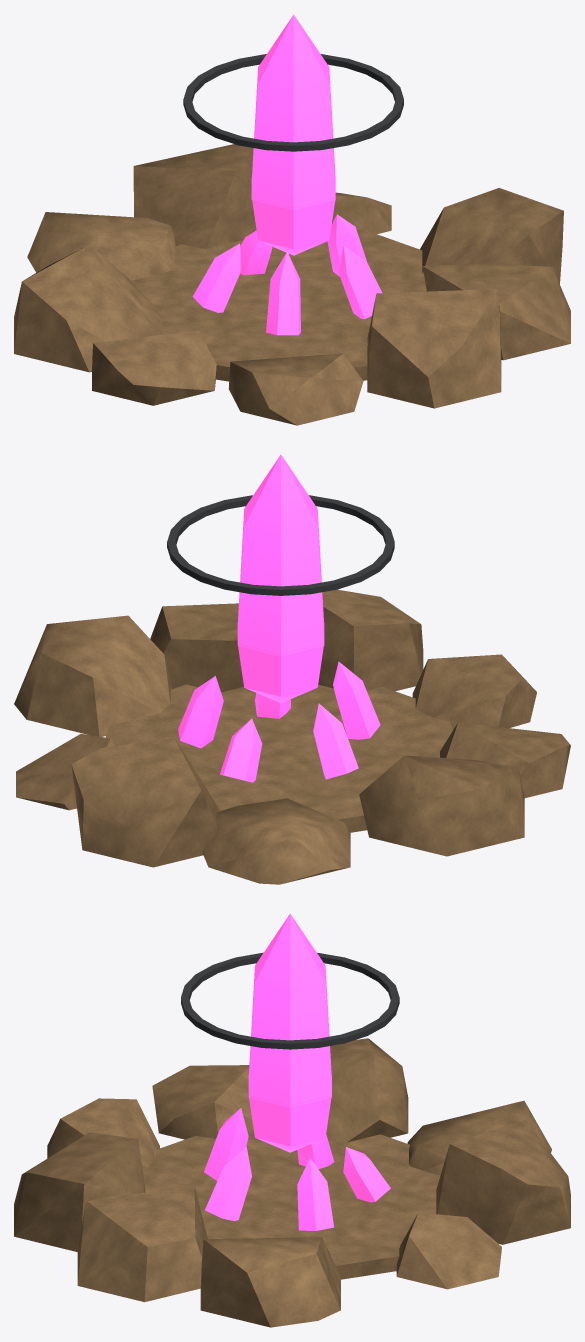
Rendered from recurso_nucleo.glb.
The picture shows the model from 3 angles, top to bottom: view 1: azimuth 30°, elevation 25°; view 2: azimuth 150°, elevation 25°; view 3: azimuth 270°, elevation 25°; orthographic projection. The views are drawn at different scales.
Visible parts, largest first — view 1: Body_Rock, Float_CoreGlow, Body_CoreGlow, Float_Metal; view 2: Body_Rock, Float_CoreGlow, Body_CoreGlow, Float_Metal; view 3: Body_Rock, Float_CoreGlow, Body_CoreGlow, Float_Metal.
Part boxes in pixels (<box>): Body_Rock: <box>14,144,570,425</box>; Float_CoreGlow: <box>251,14,335,255</box>; Body_CoreGlow: <box>192,214,382,335</box>; Float_Metal: <box>183,54,403,151</box>; Body_Rock: <box>14,589,570,884</box>; Float_CoreGlow: <box>237,454,324,702</box>; Body_CoreGlow: <box>178,661,380,782</box>; Float_Metal: <box>167,495,394,595</box>; Body_Rock: <box>14,1038,570,1327</box>; Float_CoreGlow: <box>248,913,331,1152</box>; Body_CoreGlow: <box>204,1108,390,1230</box>; Float_Metal: <box>181,952,399,1049</box>.
Bounding box in the file's own units: 11.04 × 6.15 × 10.44.
3 materials, 1 textured.
